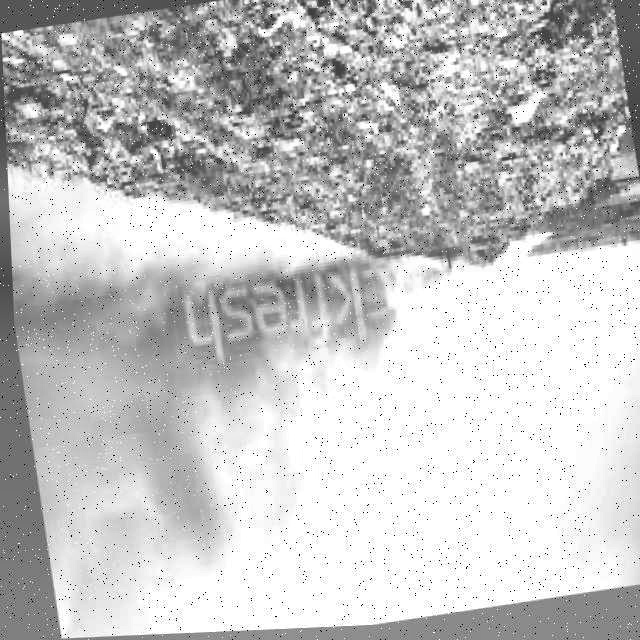Smoke: (4, 93, 499, 640)
